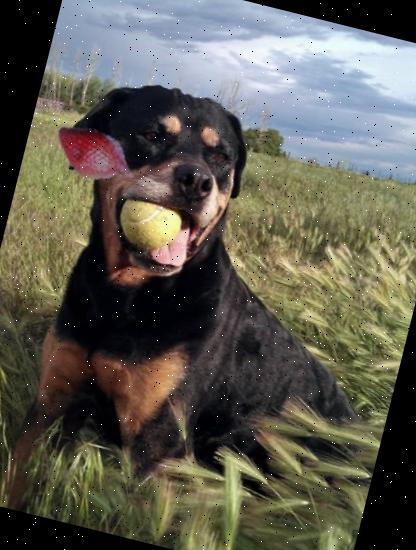Salak: (41, 102, 149, 209)
